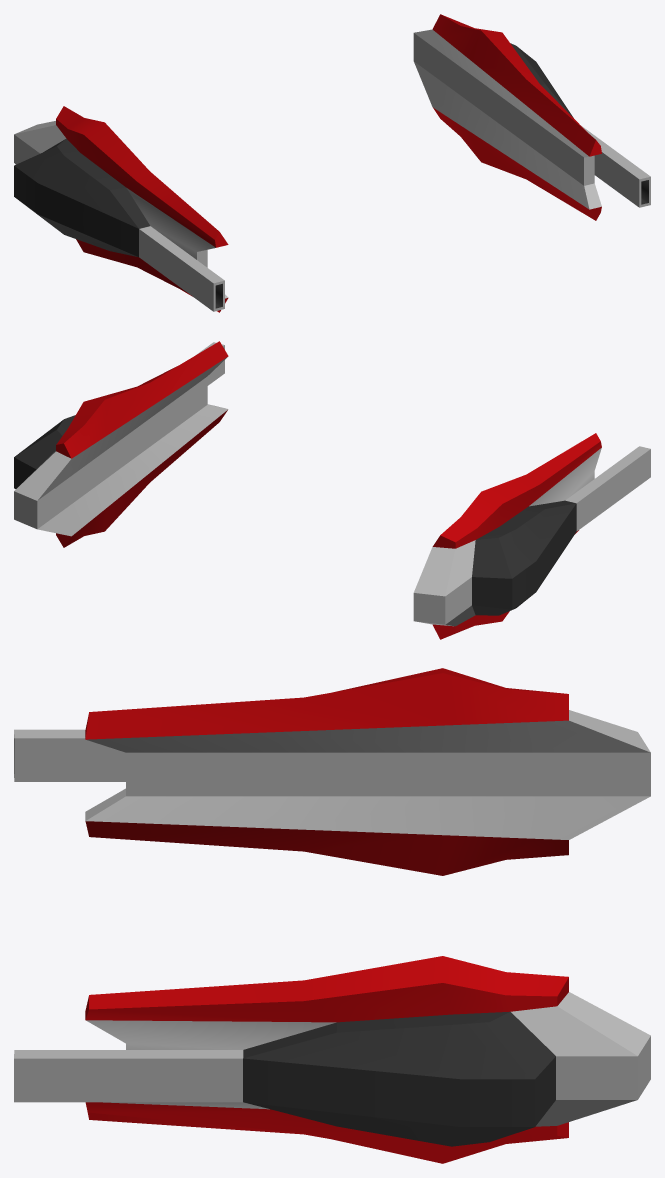
The model's file is Vogel_red.fbx.
The picture shows the model from 3 angles, top to bottom: view 1: azimuth 30°, elevation 25°; view 2: azimuth 150°, elevation 25°; view 3: azimuth 270°, elevation 25°; orthographic projection. The views are drawn at different scales.
Visible parts, largest first — view 1: Plane.001; view 2: Plane.001; view 3: Plane.001.
Boxes of the visible parts, box(x1,y1,x2,y2) form: Plane.001: box(14, 14, 650, 312); Plane.001: box(14, 341, 650, 639); Plane.001: box(14, 668, 650, 1163).
Bounding box in the file's own units: 1009 × 255 × 725.
